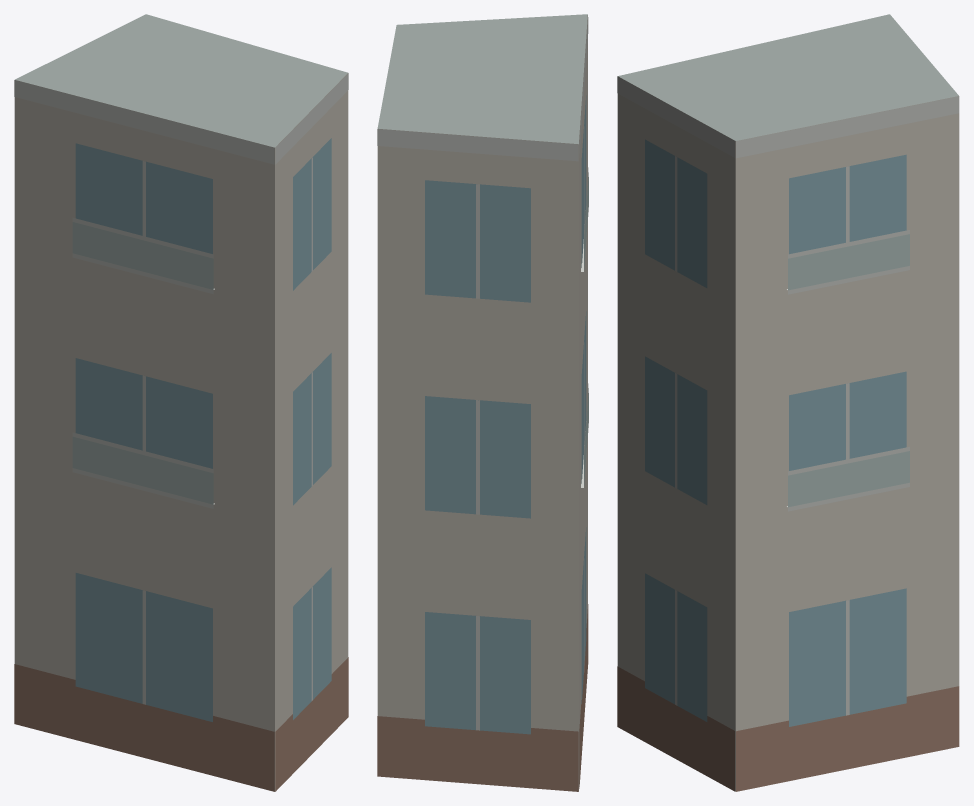
The model's file is survey-upis-32467065.glb.
The picture shows the model from 3 angles, left to right: view 1: azimuth 30°, elevation 25°; view 2: azimuth 150°, elevation 25°; view 3: azimuth 270°, elevation 25°; orthographic projection.
Visible parts, largest first — view 1: survey-upis-32467065.tmp; view 2: survey-upis-32467065.tmp; view 3: survey-upis-32467065.tmp.
Boxes of the visible parts, left/top/right/bottom form: survey-upis-32467065.tmp: left=14, top=14, right=348, bottom=791; survey-upis-32467065.tmp: left=377, top=14, right=588, bottom=791; survey-upis-32467065.tmp: left=617, top=14, right=959, bottom=791.
Bounding box in the file's own units: 3.84 × 9.15 × 4.36.
